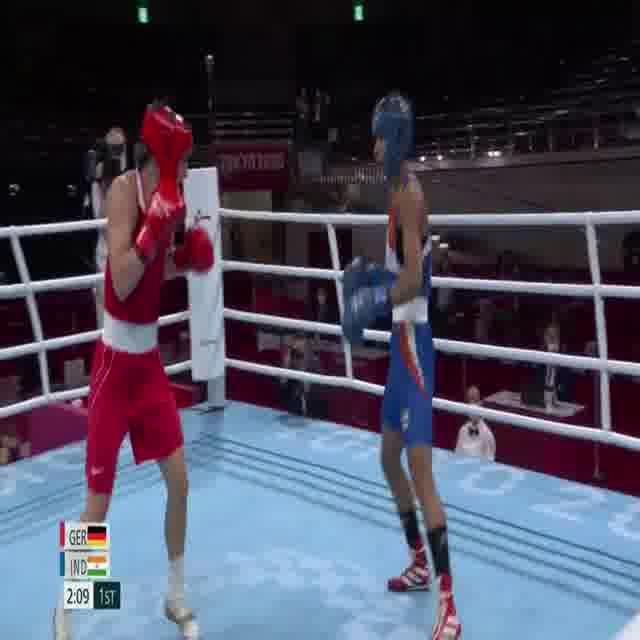blue-player: (334, 80, 464, 640)
red-player: (50, 91, 216, 640)
